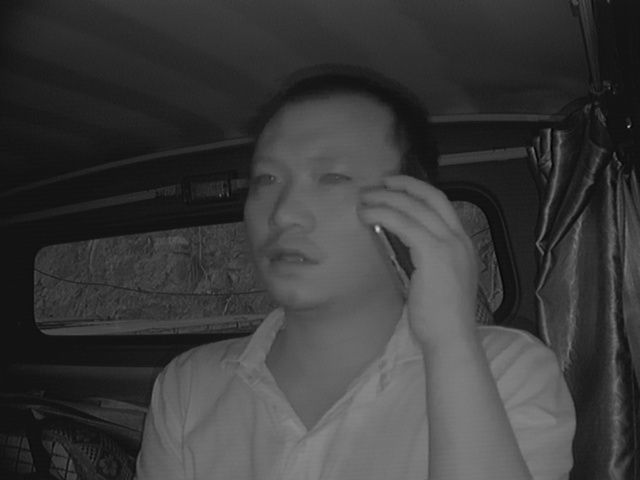hand: (356, 169, 478, 338)
